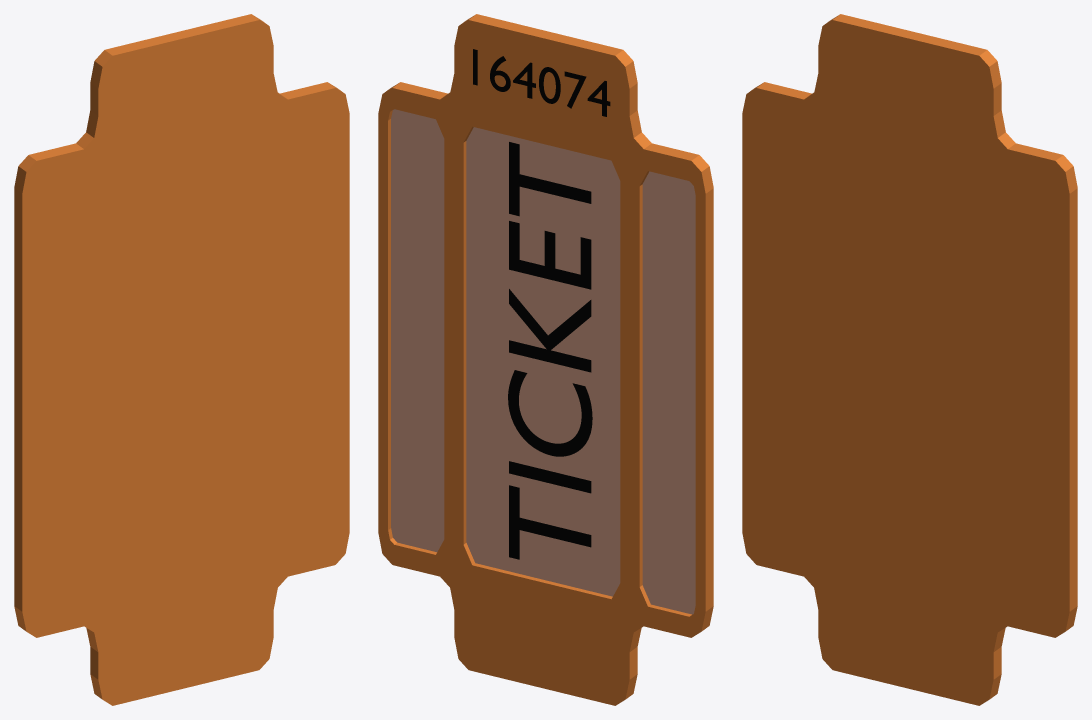
Rendered from TicketStub.fbx.
3 renders of one model, left to right at view 1: azimuth 30°, elevation 25°; view 2: azimuth 150°, elevation 25°; view 3: azimuth 330°, elevation 25°, orthographic.
Visible parts, largest first — view 1: TicketSolo; view 2: TicketSolo; view 3: TicketSolo.
Boxes of the visible parts, bbox=[...] form: TicketSolo: bbox=[14, 14, 349, 705]; TicketSolo: bbox=[378, 14, 713, 705]; TicketSolo: bbox=[742, 14, 1077, 705].
Size of the model in its own units: 365 by 692 by 19.31.
